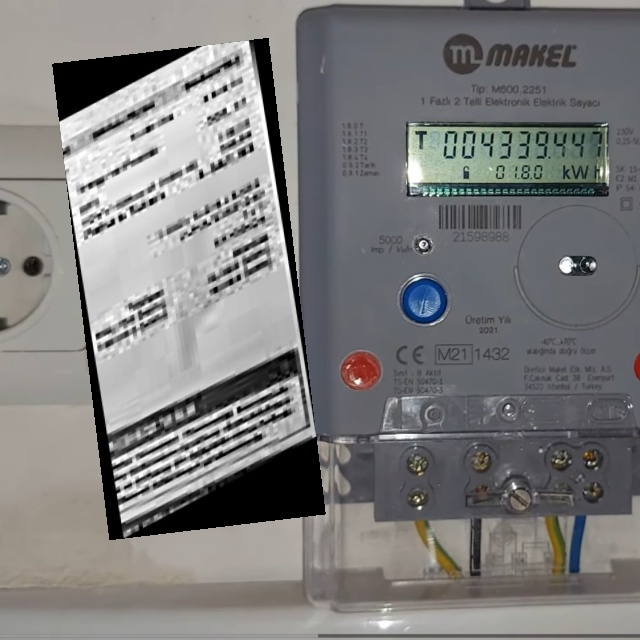electricity-bill: (51, 37, 325, 539)
